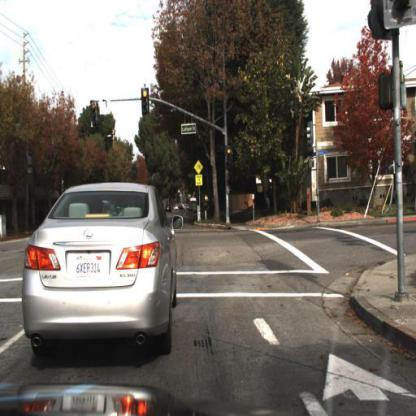car: (23, 186, 176, 356)
trafficLight-Red: (142, 86, 151, 122), (223, 140, 235, 161), (226, 147, 234, 174)
trafficLight-RedLeft: (91, 99, 100, 130)
